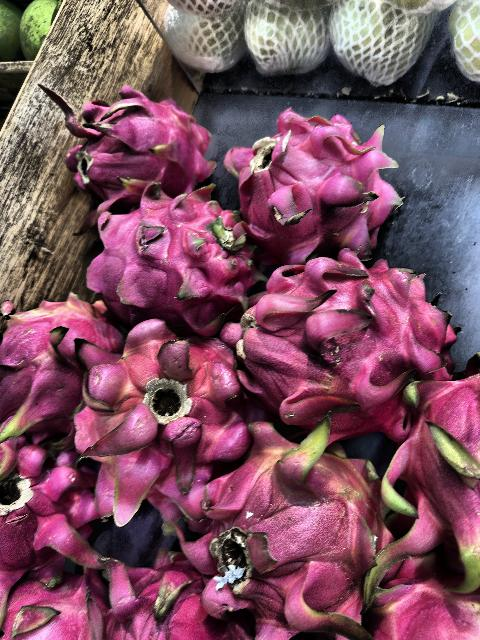buah-naga-belum-matang: (200, 412, 394, 622), (0, 280, 120, 426)
buah-naga-matang: (230, 240, 447, 414), (68, 320, 250, 500), (224, 110, 404, 254), (83, 191, 251, 327), (386, 348, 480, 588), (44, 81, 214, 191), (1, 442, 96, 584), (94, 568, 239, 640), (358, 572, 480, 640), (0, 566, 100, 640)
